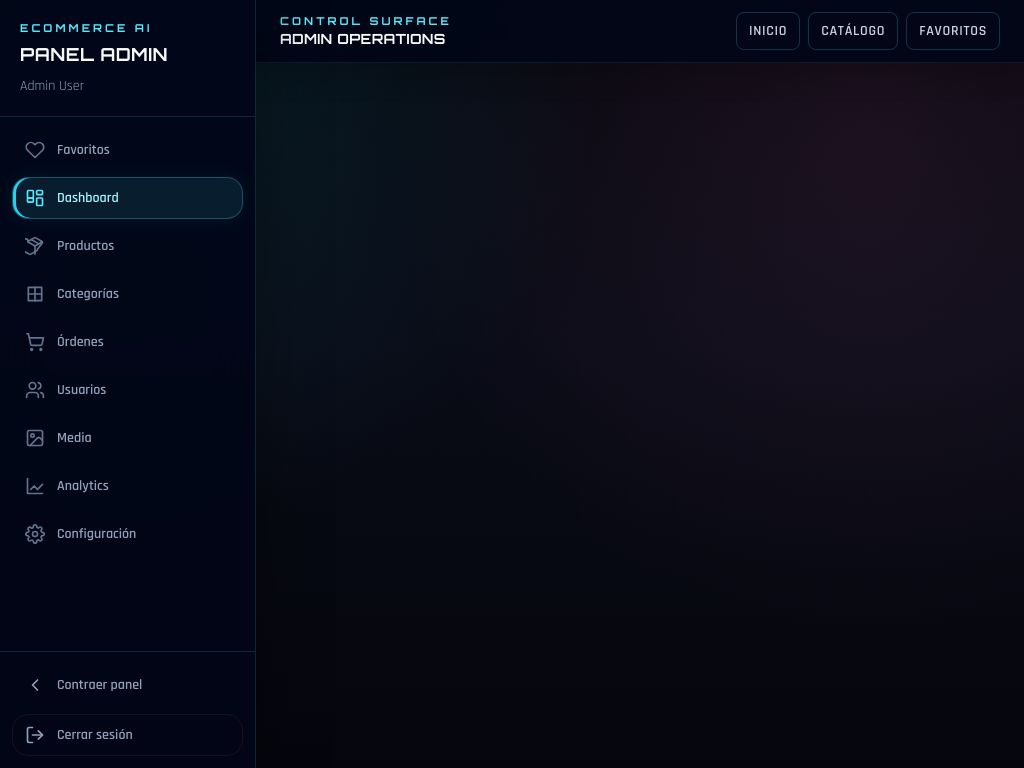
Test: AdminLayout › asks for confirmation before signing out and keeps the session when No is selected
This screenshot has width=1024, height=768.
Step 1. Click the button with test id "logout-button" → (128, 735), box [12, 714, 243, 756]
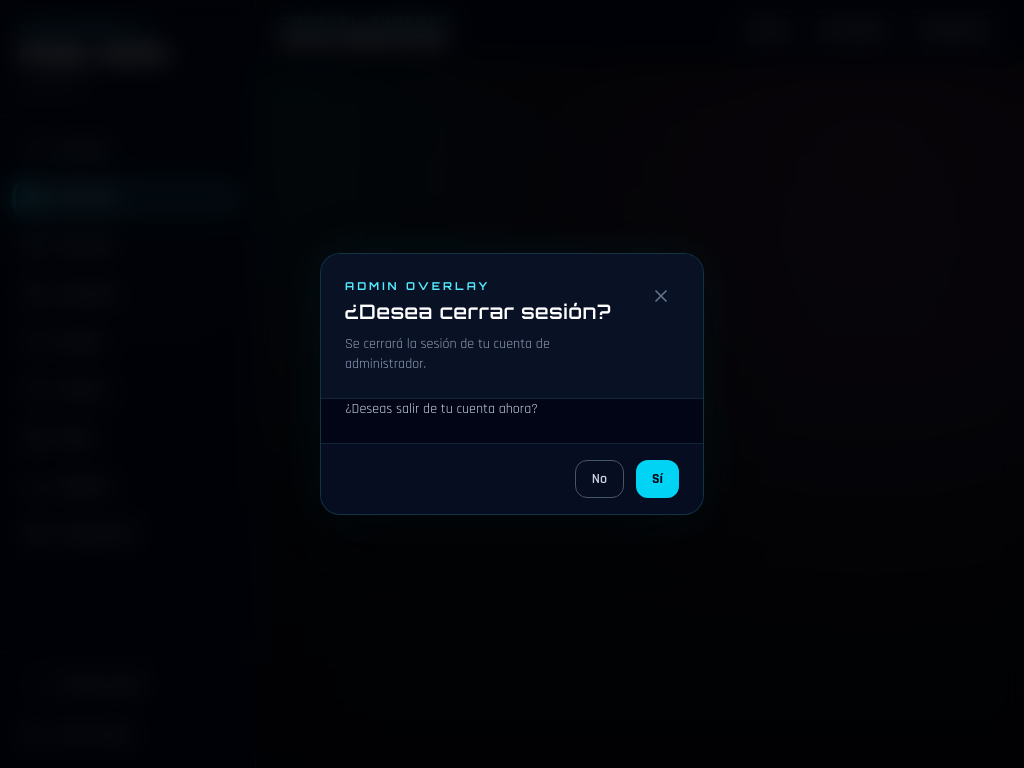
Now the dialog is shown
Now the heading "¿Desea cerrar sesión?" is shown, box [345, 298, 627, 326]
Step 2. Click the button "No" → (599, 479), box [575, 460, 624, 498]
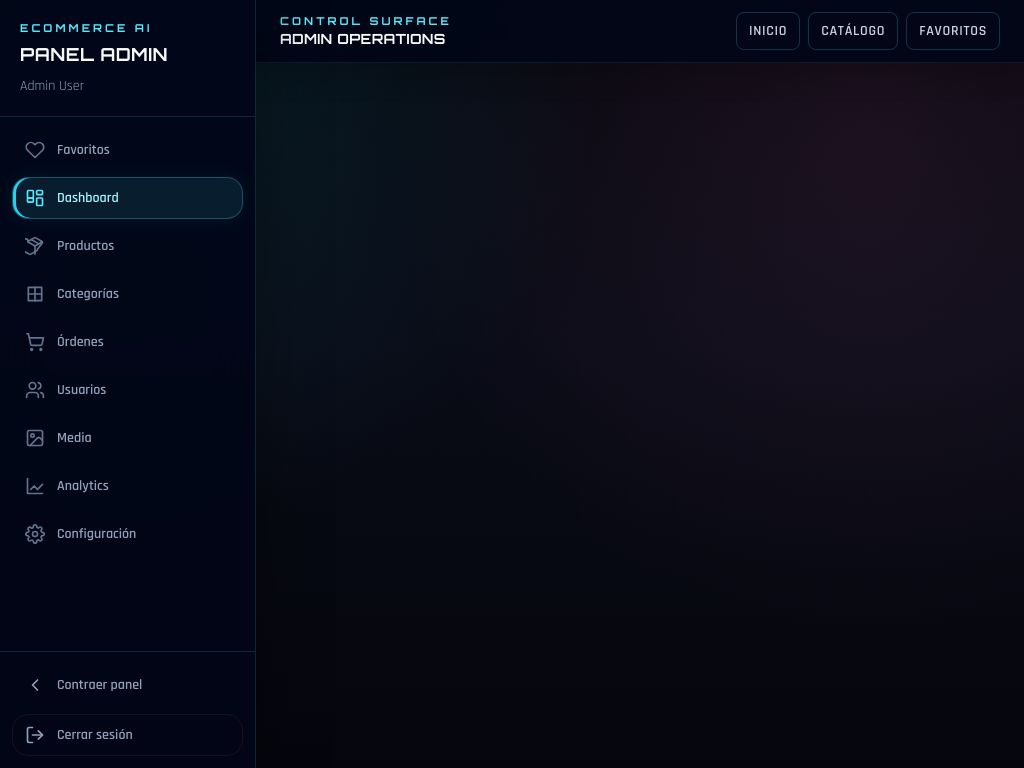
Now the dialog is gone
